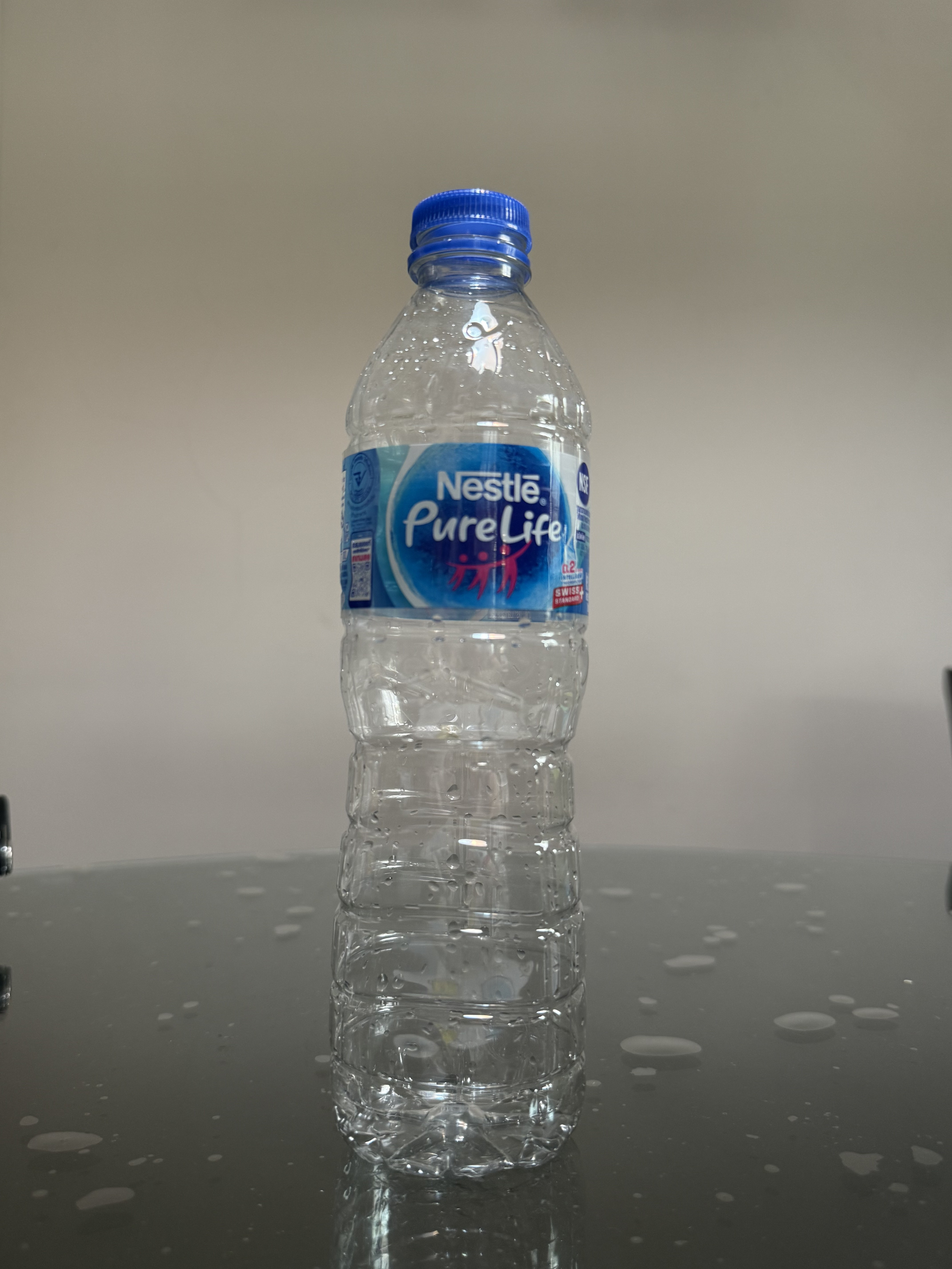half_cap: (404, 185, 534, 286)
